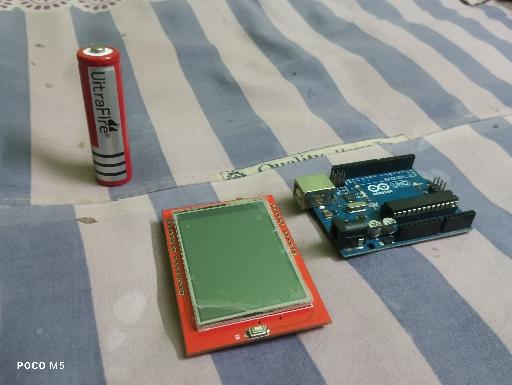Arduino: (293, 153, 476, 259)
Battery: (76, 45, 133, 187)
Display: (161, 194, 333, 358)
